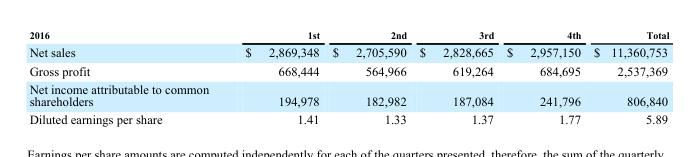table: (28, 28, 668, 125)
table column: (28, 28, 226, 125), (226, 28, 325, 125), (325, 28, 412, 125), (412, 28, 499, 125), (499, 28, 586, 125), (586, 28, 668, 125)
table column header: (28, 28, 668, 42)
table row: (28, 79, 668, 109), (28, 42, 668, 61), (28, 61, 668, 79), (28, 109, 668, 125), (28, 28, 668, 42)
